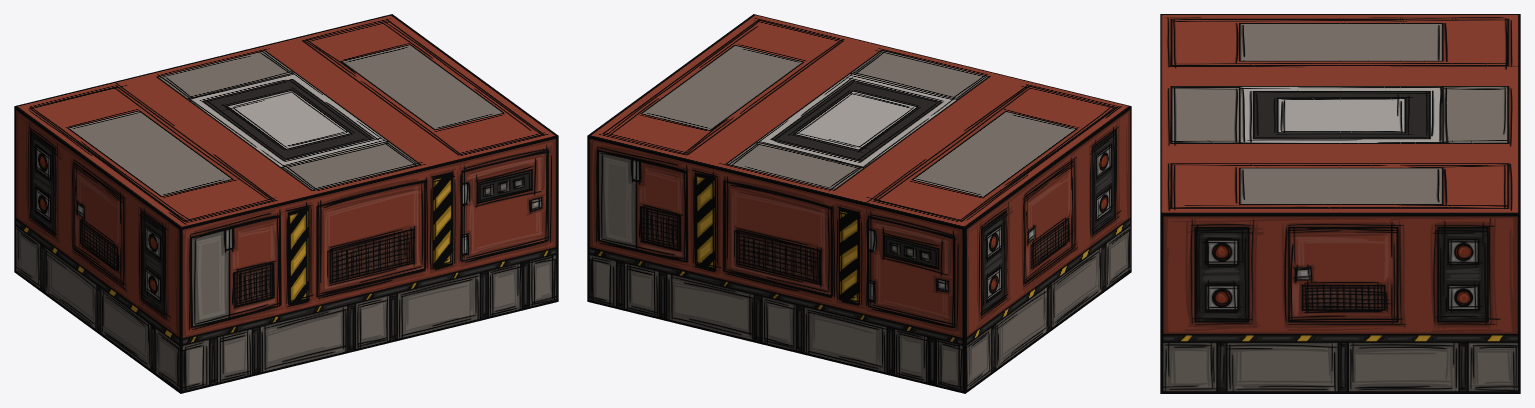
3 views of the same model, side by side, from view 1: azimuth 30°, elevation 25°; view 2: azimuth 150°, elevation 25°; view 3: azimuth 270°, elevation 25° (orthographic). The views are drawn at different scales.
Parts seen in each view (by area): view 1: Generator2; view 2: Generator2; view 3: Generator2.
Part boxes in pixels (bbox=[...]): Generator2: bbox=[14, 14, 558, 393]; Generator2: bbox=[587, 14, 1131, 393]; Generator2: bbox=[1160, 14, 1520, 393].
Size of the model in its own units: 512 by 215 by 390.
